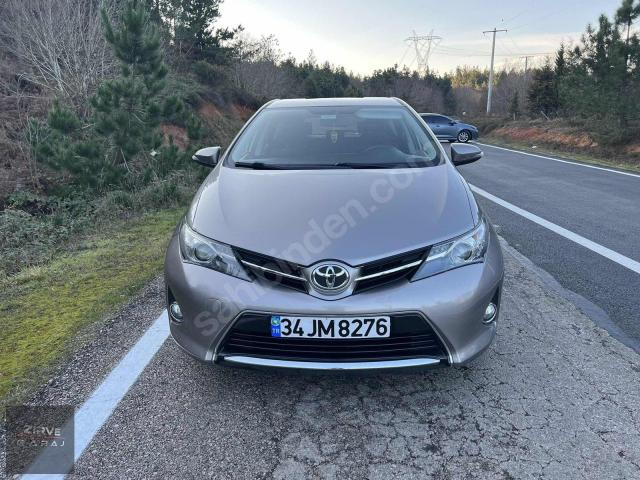plaka: (271, 316, 390, 338)
